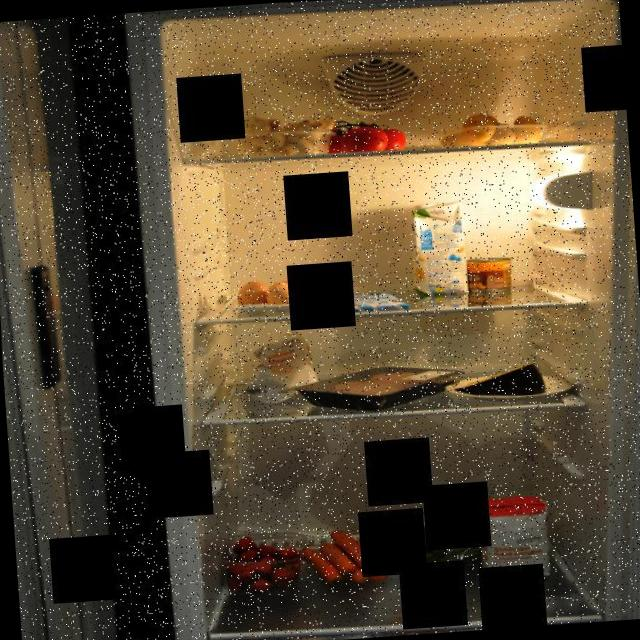Carne pollo: (324, 364, 431, 406)
Champiñones: (232, 108, 340, 160)
Huevos: (231, 274, 301, 312)
Leche: (408, 198, 468, 298)
Patata: (448, 108, 543, 150)
Queso: (448, 359, 546, 401)
Tomate: (324, 114, 410, 156)
Zanahoria: (292, 524, 390, 588)
chocolate: (326, 288, 411, 314)
corn: (466, 254, 514, 296)
flour: (236, 328, 320, 408)
green_beans: (388, 507, 488, 589)
strawberries: (216, 529, 303, 597)
sugar: (472, 492, 554, 583)
